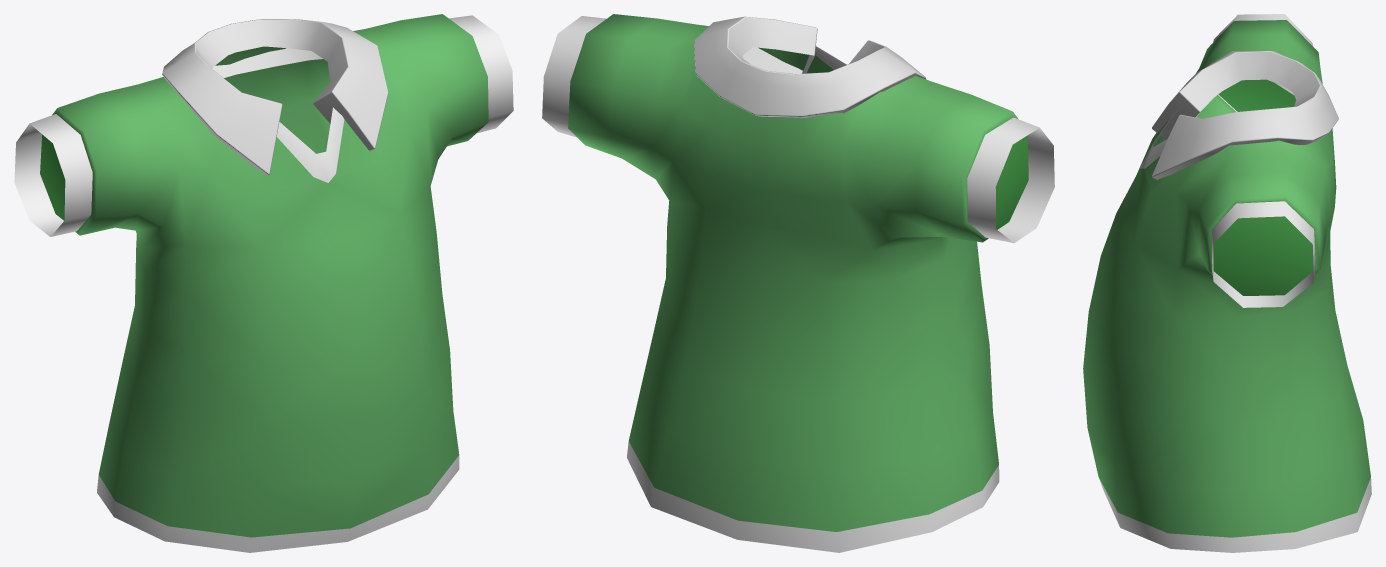
The model's file is Outerwear_Green_012.glb.
3 renders of one model, left to right at view 1: azimuth 30°, elevation 25°; view 2: azimuth 150°, elevation 25°; view 3: azimuth 270°, elevation 25°, orthographic. The views are drawn at different scales.
Parts seen in each view (by area): view 1: Outerwear_Green_012; view 2: Outerwear_Green_012; view 3: Outerwear_Green_012.
Boxes of the visible parts, x1,y1,x2,y2 form: Outerwear_Green_012: [14, 14, 513, 552]; Outerwear_Green_012: [542, 14, 1054, 552]; Outerwear_Green_012: [1083, 14, 1371, 552].
Bounding box in the file's own units: 0.6893 × 0.6487 × 0.41.
Materials: 1 (1 with a texture image).
